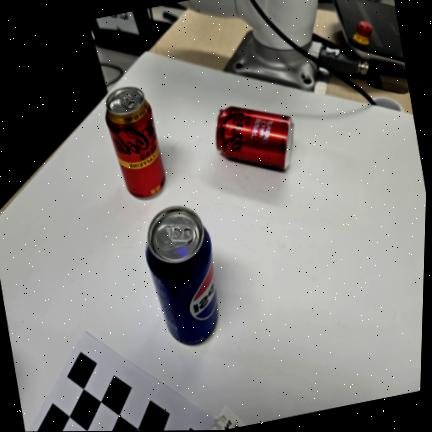can_coke_decaf: (106, 86, 166, 198)
can_coke_zero: (215, 107, 295, 170)
can_pepsi: (145, 205, 219, 342)
